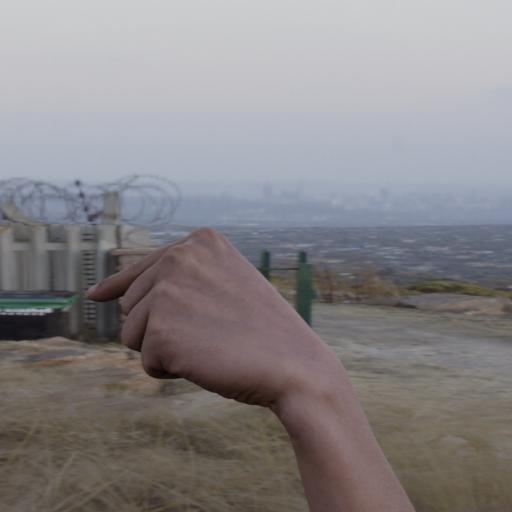G: (69, 220, 343, 414)
